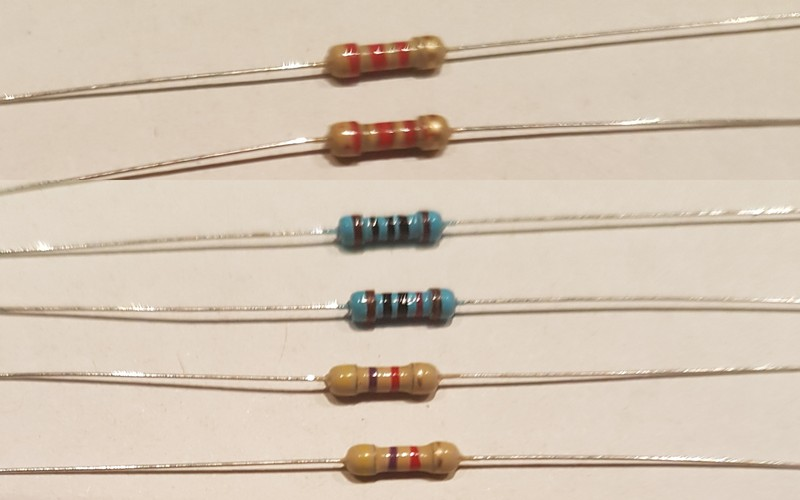Resistor: (318, 424, 473, 489), (318, 102, 453, 173), (302, 33, 456, 91), (308, 200, 449, 256), (309, 350, 454, 404), (340, 268, 459, 332)
